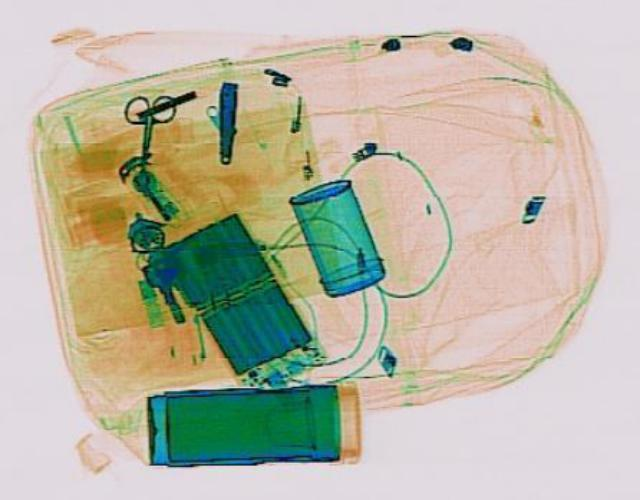Scissors: (116, 91, 174, 164)
